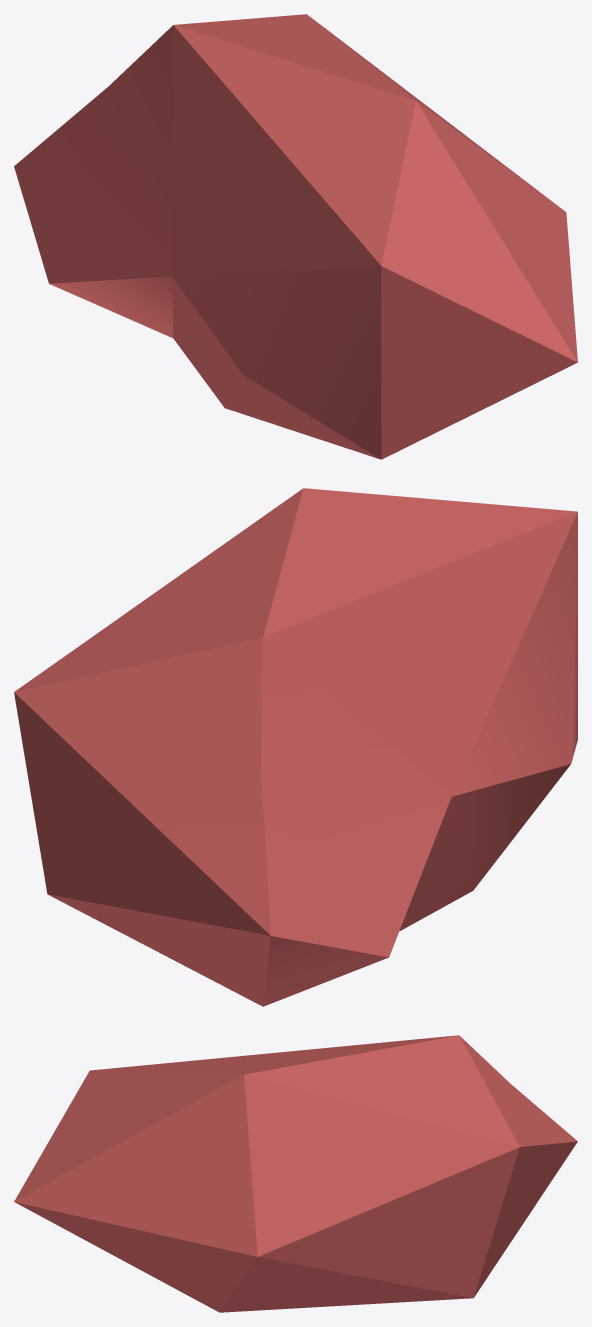
Rendered from stomach.fbx.
The picture shows the model from 3 angles, top to bottom: view 1: azimuth 30°, elevation 25°; view 2: azimuth 150°, elevation 25°; view 3: azimuth 270°, elevation 25°; orthographic projection. The views are drawn at different scales.
Parts seen in each view (by area): view 1: pPlatonic5; view 2: pPlatonic5; view 3: pPlatonic5.
Part boxes in pixels (x1,y1,x2,y2): pPlatonic5: (14,14,577,459); pPlatonic5: (14,488,577,1006); pPlatonic5: (14,1035,577,1312).
Bounding box in the file's own units: 142 × 113 × 236.
